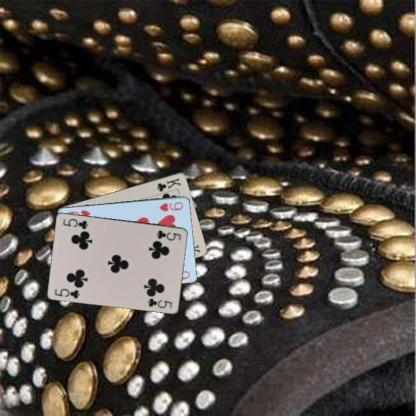5c: (52, 286, 81, 300), (154, 228, 182, 242)
9h: (156, 199, 184, 213)
Kc: (154, 174, 182, 192)
